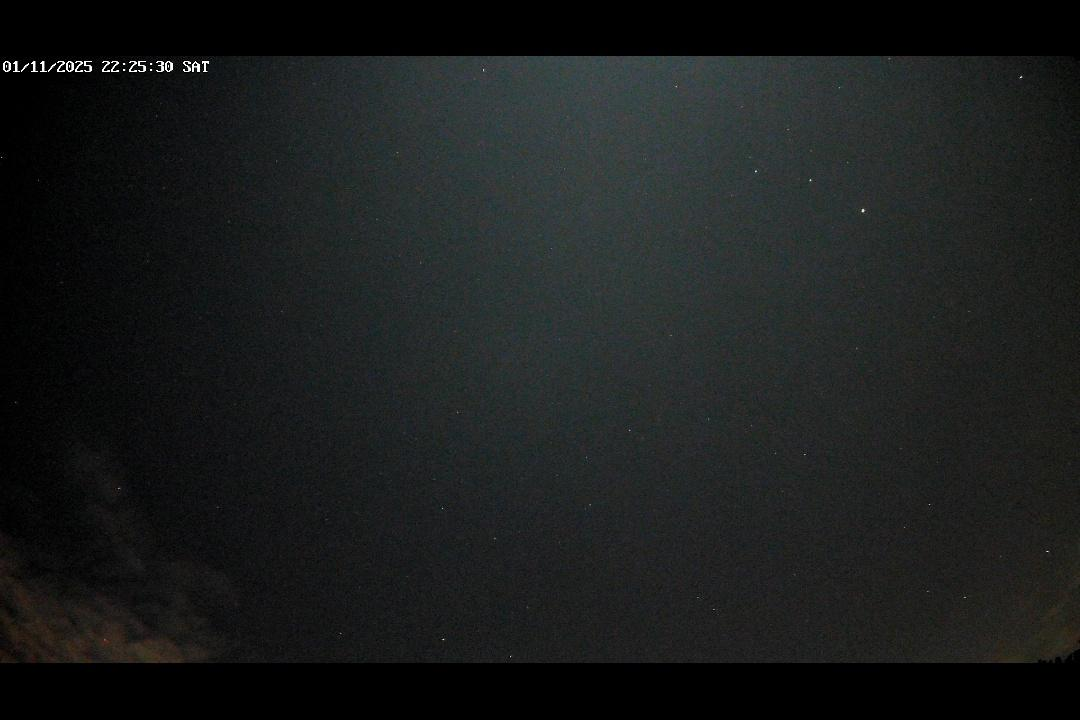Plane: (99, 633, 115, 647)
